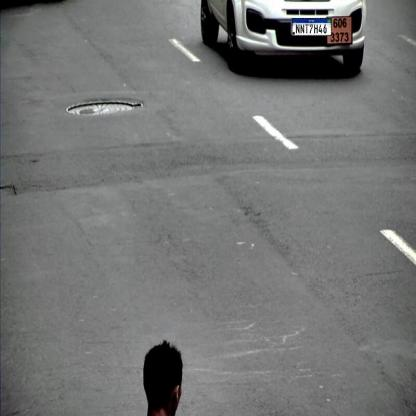PlacaM: (291, 18, 332, 36)
